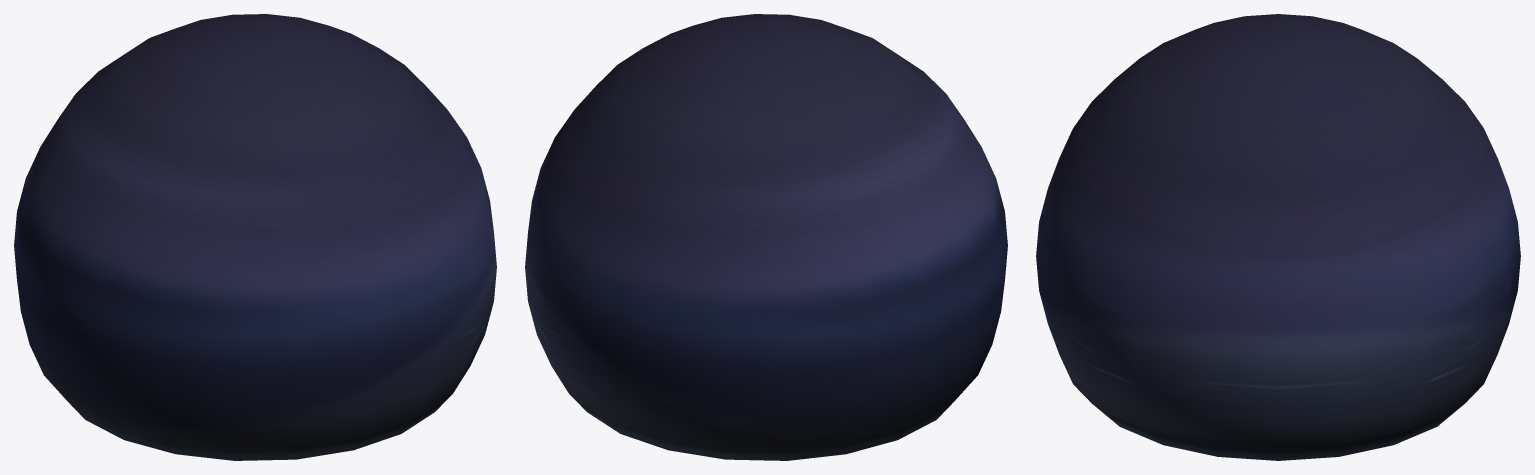
The model's file is setBGBall.fbx.
3 views of the same model, side by side, from view 1: azimuth 30°, elevation 25°; view 2: azimuth 150°, elevation 25°; view 3: azimuth 270°, elevation 25° (orthographic).
Parts seen in each view (by area): view 1: setBGBall; view 2: setBGBall; view 3: setBGBall.
Part boxes in pixels (box(x1,y1,x2,y2)): setBGBall: box(14, 14, 496, 460); setBGBall: box(525, 14, 1007, 460); setBGBall: box(1036, 14, 1520, 460).
Bounding box in the file's own units: 202 × 161 × 202.
